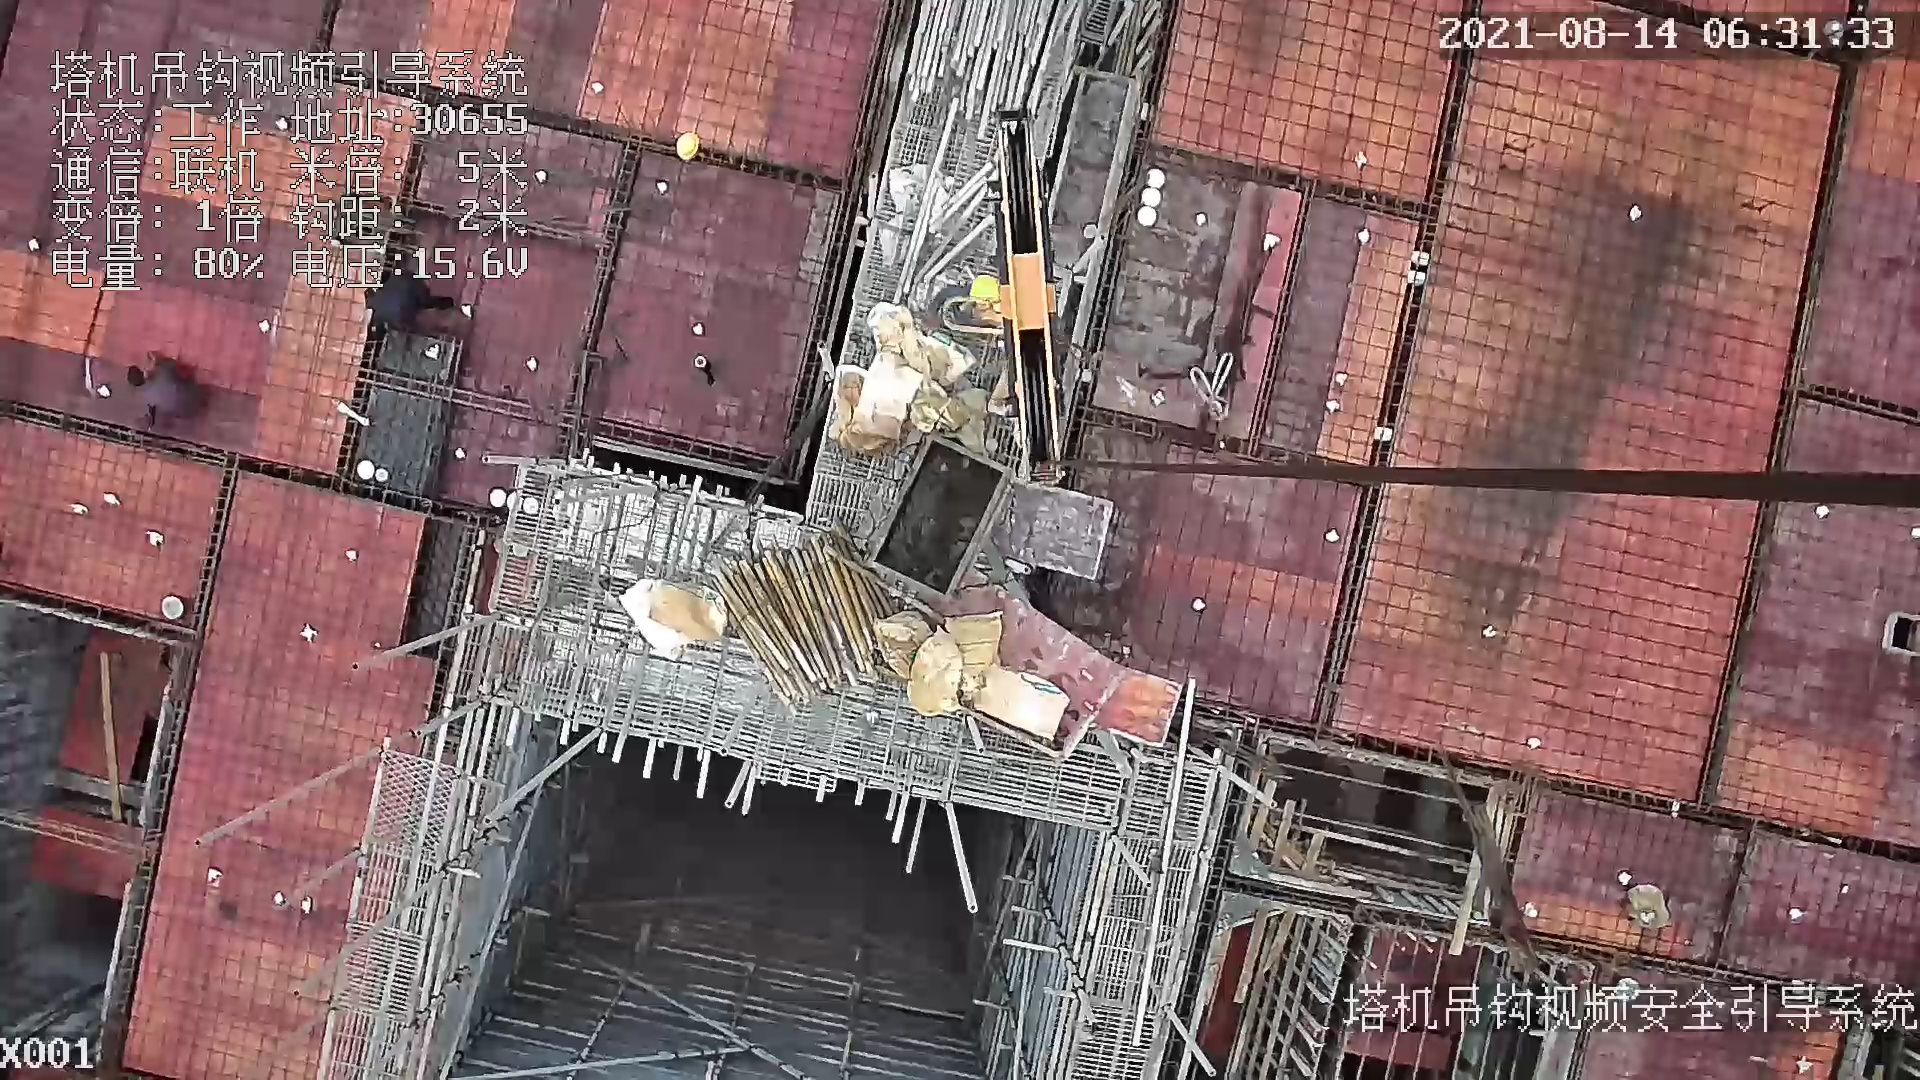helmet: (673, 131, 701, 164)
hook: (942, 110, 1069, 483)
hopper: (865, 446, 1014, 599)
person: (360, 277, 458, 344), (124, 353, 205, 431)
scaffold: (712, 532, 905, 709)
